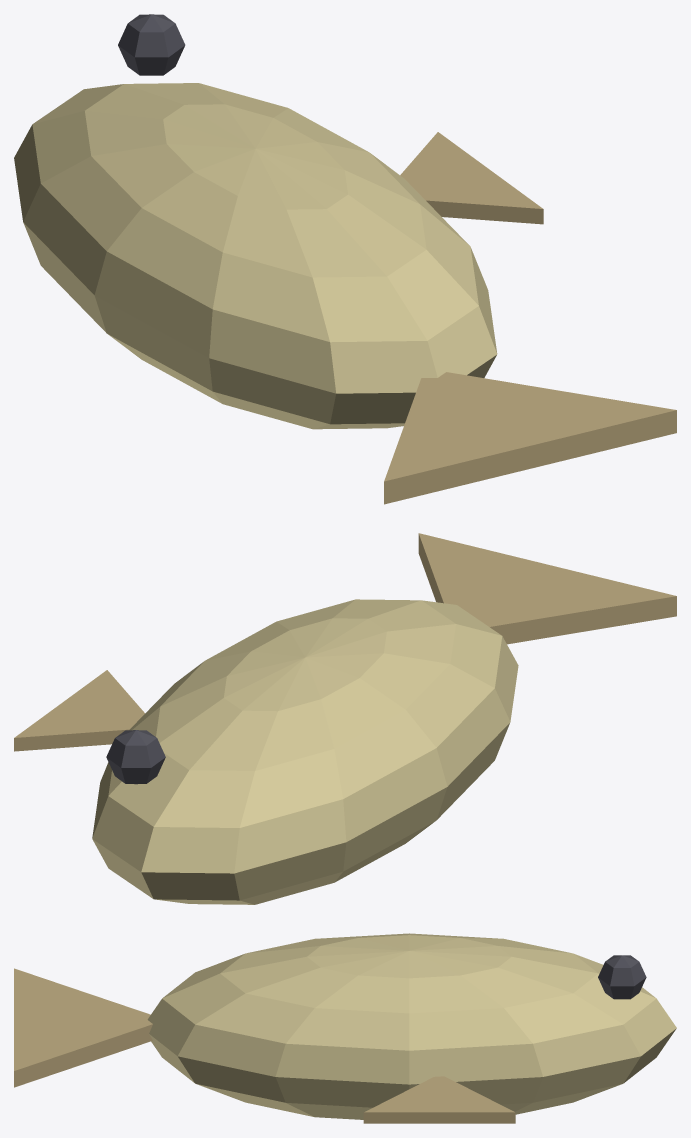
Rendered from carp_held.gltf.
3 renders of one model, top to bottom at view 1: azimuth 30°, elevation 25°; view 2: azimuth 150°, elevation 25°; view 3: azimuth 270°, elevation 25°, orthographic. The views are drawn at different scales.
Visible parts, largest first — view 1: pets_fish_held; view 2: pets_fish_held; view 3: pets_fish_held.
Boxes of the visible parts, bbox=[...] form: pets_fish_held: bbox=[14, 14, 676, 504]; pets_fish_held: bbox=[14, 533, 676, 904]; pets_fish_held: bbox=[14, 933, 676, 1123].
Bounding box in the file's own units: 0.114 × 0.06 × 0.218.
